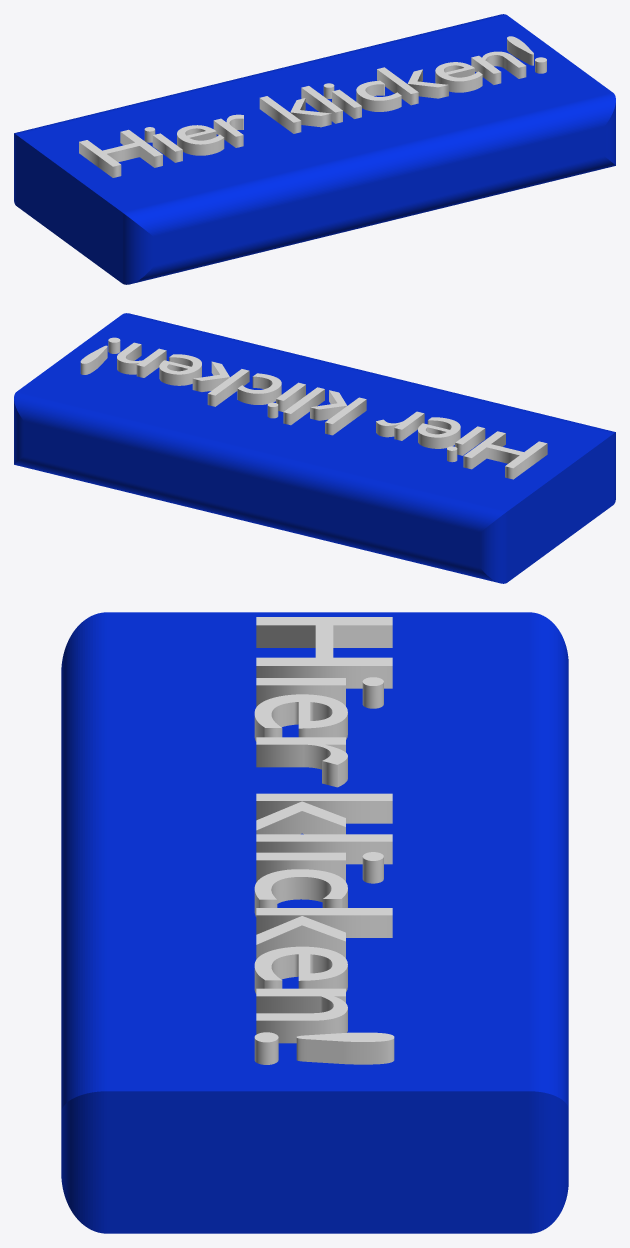
File: HierKlickenButtonBlau.glb
3 views of the same model, one above another, from view 1: azimuth 30°, elevation 25°; view 2: azimuth 150°, elevation 25°; view 3: azimuth 270°, elevation 25° (orthographic). The views are drawn at different scales.
Parts seen in each view (by area): view 1: Cube, Text; view 2: Cube, Text; view 3: Cube, Text.
Boxes of the visible parts, left/top/right/bottom form: Cube: left=14, top=14, right=615, bottom=284; Text: left=79, top=36, right=546, bottom=177; Cube: left=14, top=313, right=615, bottom=583; Text: left=80, top=337, right=547, bottom=479; Cube: left=61, top=612, right=568, bottom=1233; Text: left=254, top=617, right=394, bottom=1064.
Bounding box in the file's own units: 2 × 0.3213 × 0.8956.
